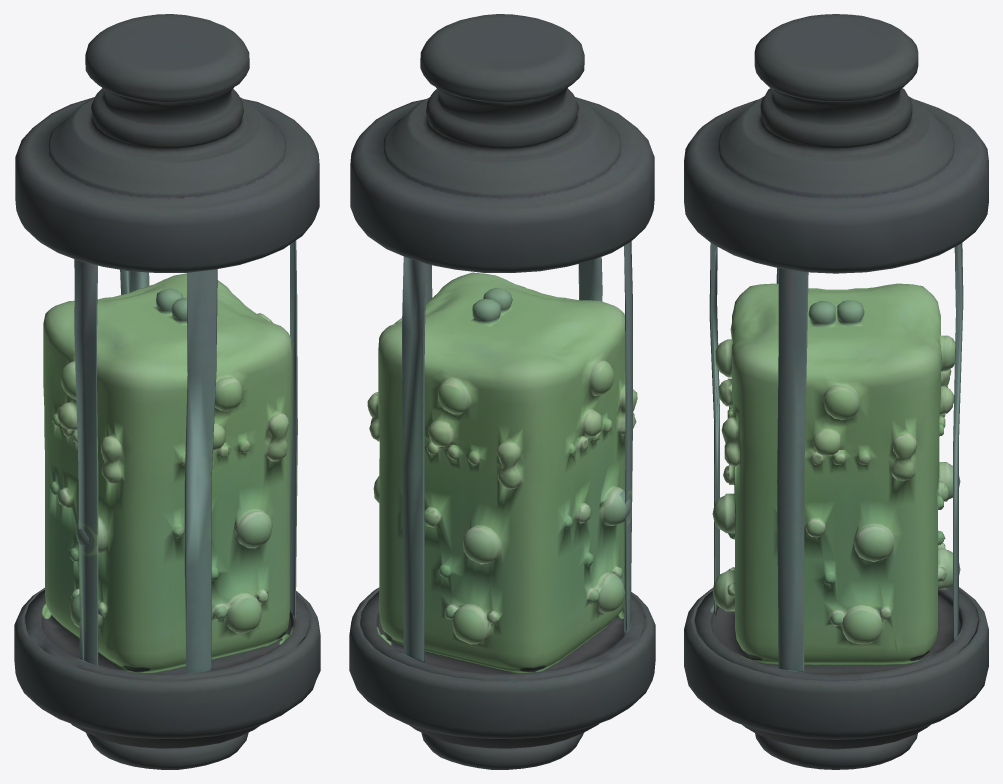
Rendered from FluxVial.fbx.
3 renders of one model, left to right at view 1: azimuth 30°, elevation 25°; view 2: azimuth 150°, elevation 25°; view 3: azimuth 270°, elevation 25°, orthographic.
Visible parts, largest first — view 1: tripo_node_adc85014; view 2: tripo_node_adc85014; view 3: tripo_node_adc85014.
Part boxes in pixels (x1,y1,x2,y2): tripo_node_adc85014: (14,14,320,769); tripo_node_adc85014: (349,14,655,769); tripo_node_adc85014: (684,14,988,769).
Size of the model in its own units: 39.19 by 38.8 by 97.68.
1 material, 1 textured.
